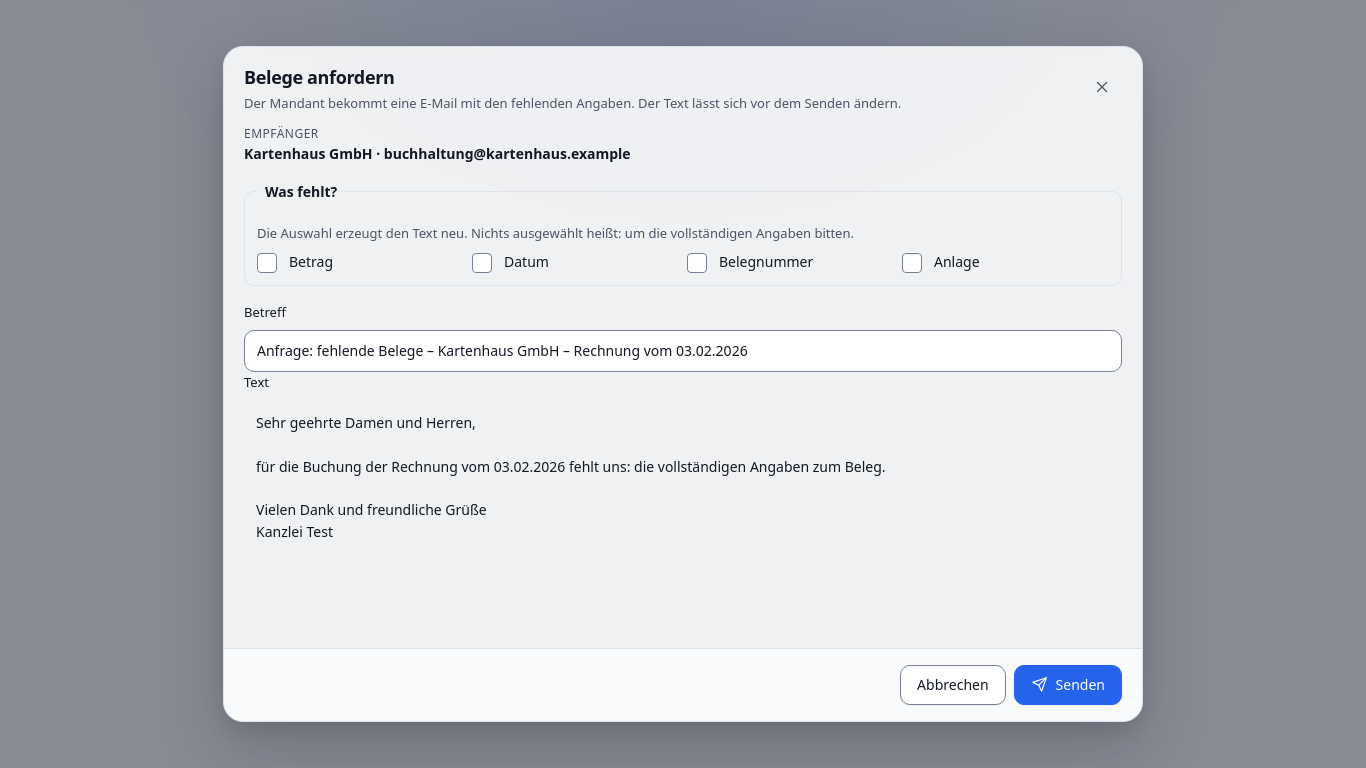
it: MandantRequestDialog › says in words that mail is not set up and does not claim the letter was sent
The width and height of the screenshot is (1366, 768).
Expected: the field showing "Anfrage: fehlende Belege – Kartenhaus GmbH – Rechnung vom 03.02.2026" is shown, [245,331,1121,371]
Click the button "Senden".
click(1068, 685)  # box [1014,665,1122,705]
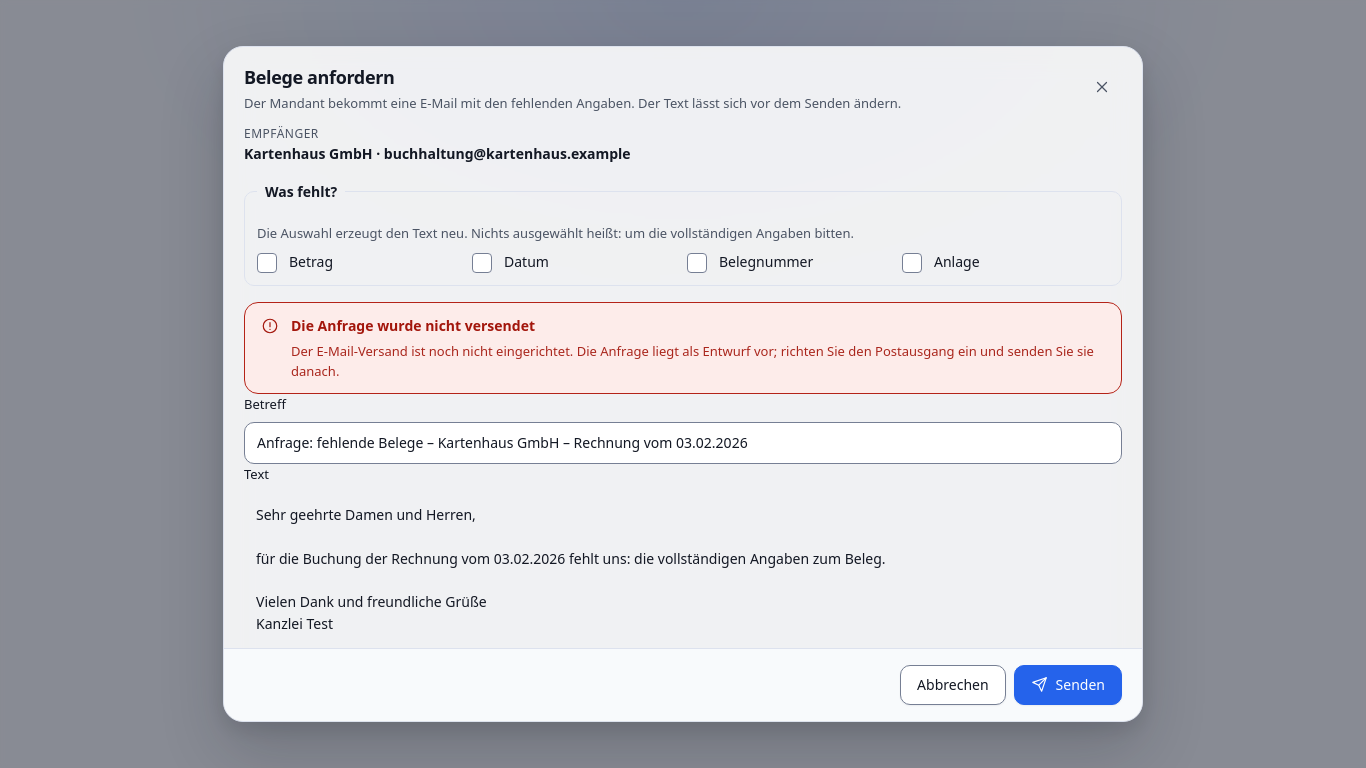
Now the text "E-Mail-Versand ist noch nicht eingerichtet" is shown, box [291,342,1094,380]
